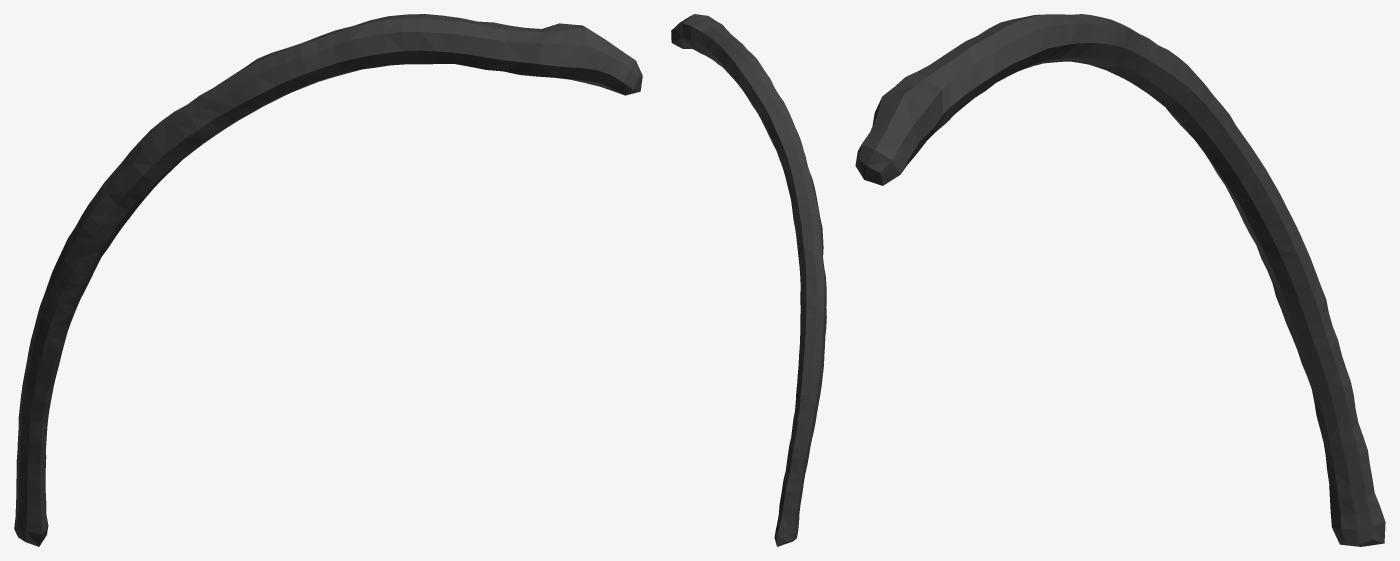
Rendered from Rib_12_R.glb.
3 views of the same model, side by side, from view 1: azimuth 30°, elevation 25°; view 2: azimuth 150°, elevation 25°; view 3: azimuth 270°, elevation 25° (orthographic). The views are drawn at different scales.
Parts seen in each view (by area): view 1: Rib_12_R; view 2: Rib_12_R; view 3: Rib_12_R.
Boxes of the visible parts, x1,y1,x2,y2 form: Rib_12_R: (14,14,642,546); Rib_12_R: (671,14,826,546); Rib_12_R: (855,14,1385,546).
Bounding box in the file's own units: 4.09 × 5.49 × 4.1.
Materials: 1 (1 with a texture image).
